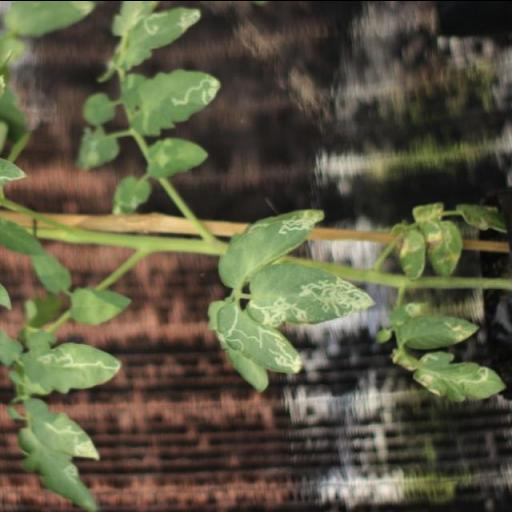disease_tomato: (216, 208, 326, 288), (242, 260, 378, 323), (213, 304, 303, 376), (130, 68, 220, 136), (412, 348, 506, 406), (23, 340, 121, 392), (394, 312, 482, 348)
